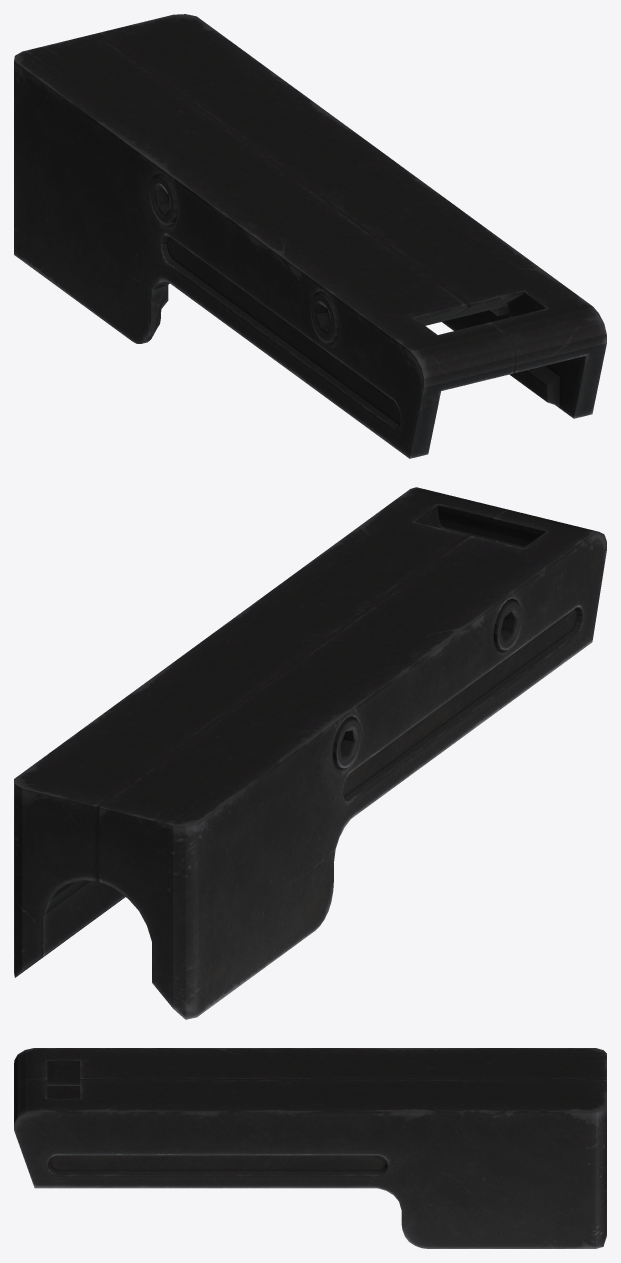
The picture shows the model from 3 angles, top to bottom: view 1: azimuth 30°, elevation 25°; view 2: azimuth 150°, elevation 25°; view 3: azimuth 270°, elevation 25°; orthographic projection. The views are drawn at different scales.
Visible parts, largest first — view 1: TW_619621a4de3cdf1d2614a7a7_PZ_Import; view 2: TW_619621a4de3cdf1d2614a7a7_PZ_Import; view 3: TW_619621a4de3cdf1d2614a7a7_PZ_Import.
Boxes of the visible parts, x1,y1,x2,y2 form: TW_619621a4de3cdf1d2614a7a7_PZ_Import: [14, 14, 606, 458]; TW_619621a4de3cdf1d2614a7a7_PZ_Import: [14, 487, 606, 1019]; TW_619621a4de3cdf1d2614a7a7_PZ_Import: [14, 1048, 606, 1248].
Size of the model in its own units: 0.0169 by 0.0661 by 0.0169.
1 material, 1 textured.
